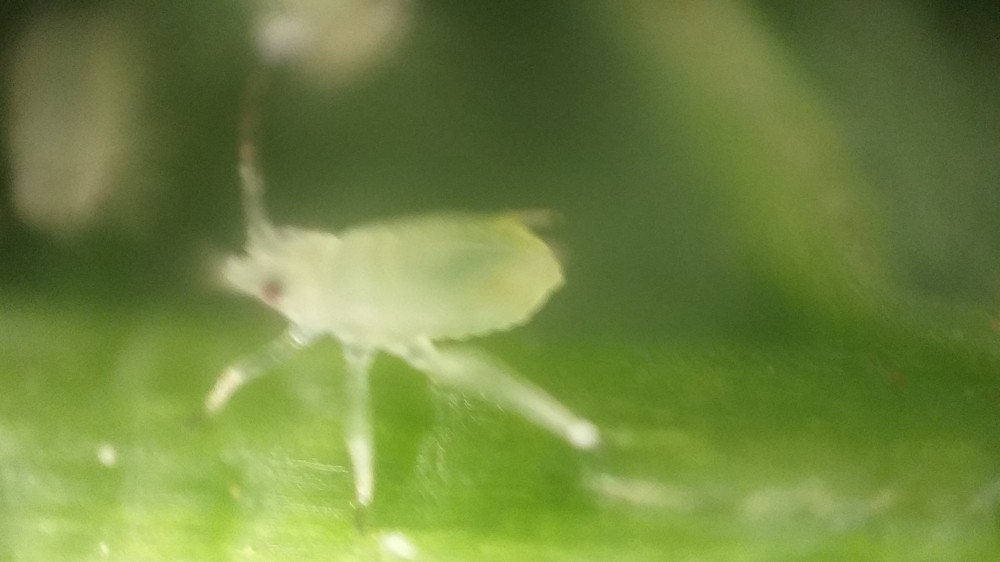Pulgon: (183, 111, 643, 503)
